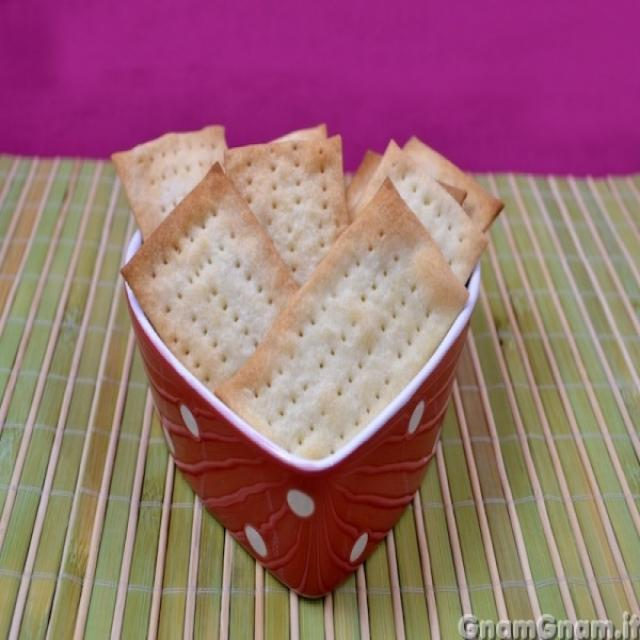Cracker: (234, 181, 471, 485)
